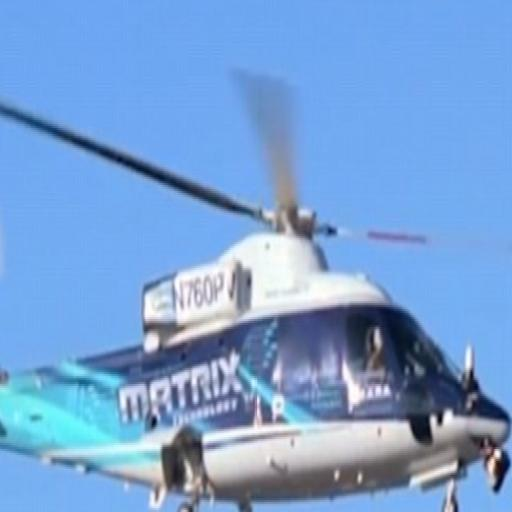helicopter: (1, 81, 512, 512)
